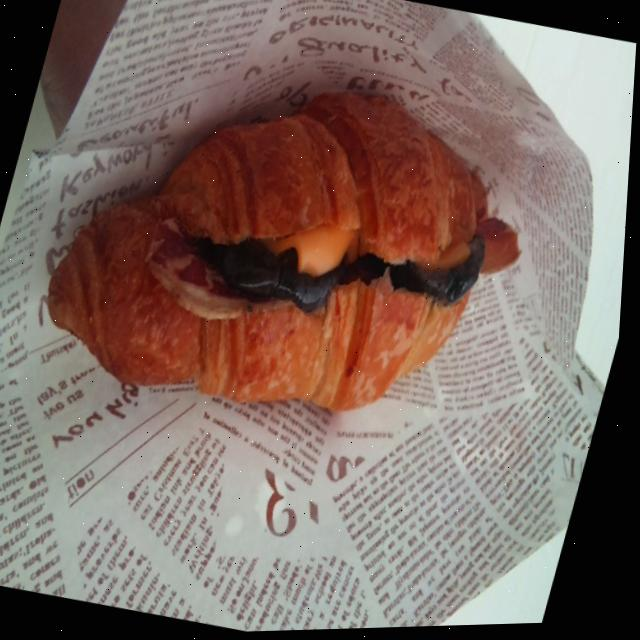面包点心: (14, 0, 640, 501)
